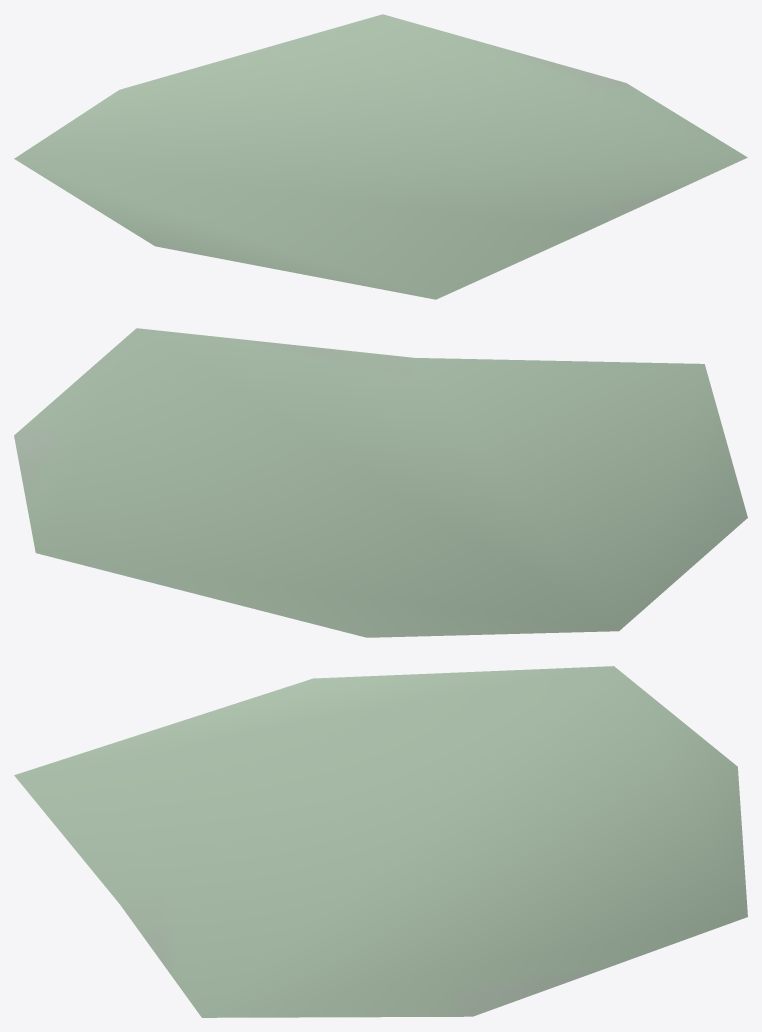
The model's file is TROLLHOLE02_HOLECAP68.fbx.
3 views of the same model, one above another, from view 1: azimuth 30°, elevation 25°; view 2: azimuth 150°, elevation 25°; view 3: azimuth 270°, elevation 25° (orthographic). The views are drawn at different scales.
Visible parts, largest first — view 1: TROLLHOLE02_HOLECAP68; view 2: TROLLHOLE02_HOLECAP68; view 3: TROLLHOLE02_HOLECAP68.
Part boxes in pixels (bbox=[...]): TROLLHOLE02_HOLECAP68: bbox=[14, 14, 747, 299]; TROLLHOLE02_HOLECAP68: bbox=[14, 328, 747, 637]; TROLLHOLE02_HOLECAP68: bbox=[14, 666, 747, 1017].
Size of the model in its own units: 20685 by 632 by 19092.
Materials: 1 (1 with a texture image).
